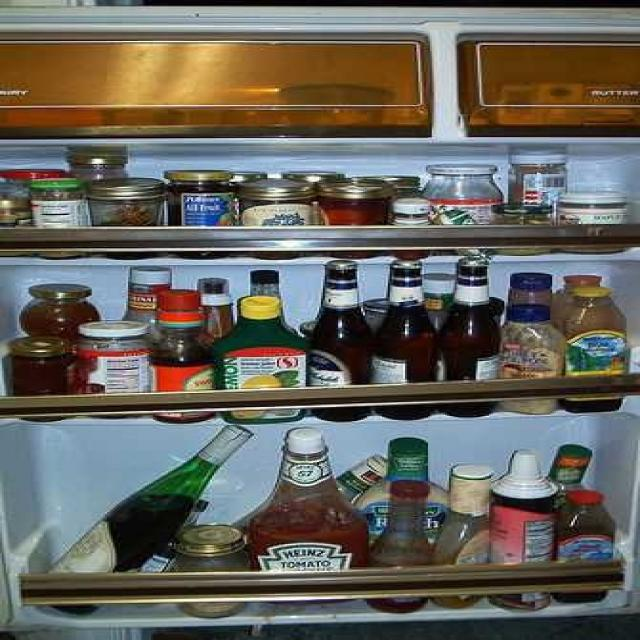refrigerator: (0, 72, 640, 640)
